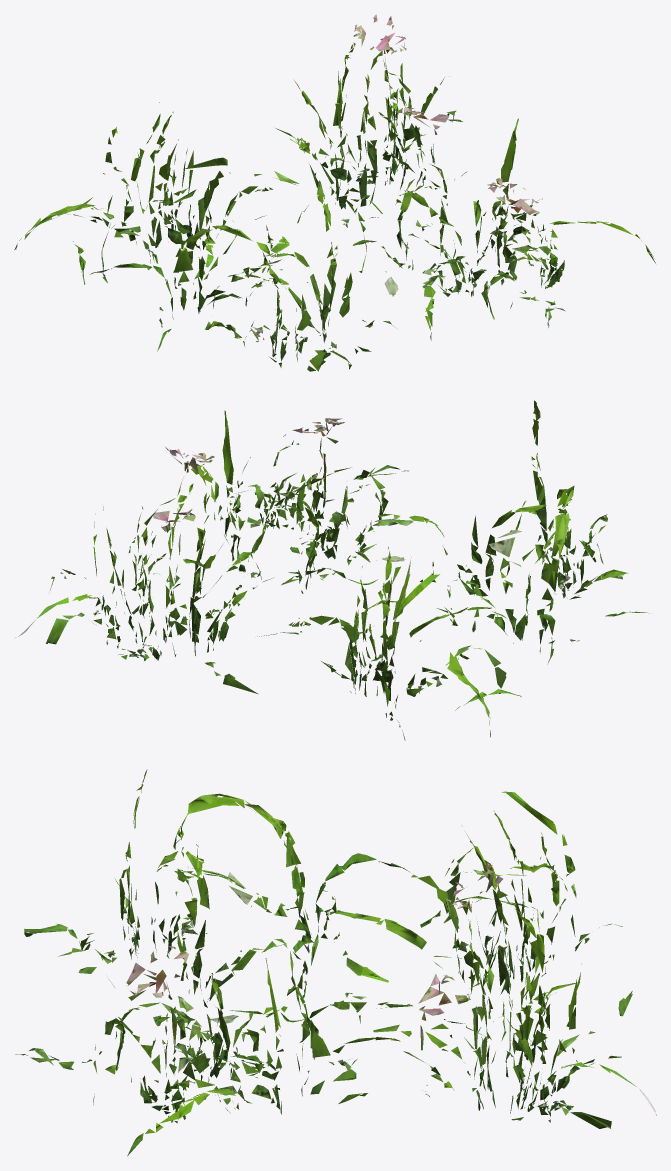
Rendered from forest-grass.glb.
The picture shows the model from 3 angles, top to bottom: view 1: azimuth 30°, elevation 25°; view 2: azimuth 150°, elevation 25°; view 3: azimuth 270°, elevation 25°; orthographic projection. The views are drawn at different scales.
Parts seen in each view (by area): view 1: Mesh_0; view 2: Mesh_0; view 3: Mesh_0.
Part boxes in pixels (x1,y1,x2,y2): Mesh_0: (14,14,655,371); Mesh_0: (15,400,649,740); Mesh_0: (15,769,656,1156).
Bounding box in the file's own units: 1.51 × 0.5836 × 1.48.
1 material, 1 textured.
